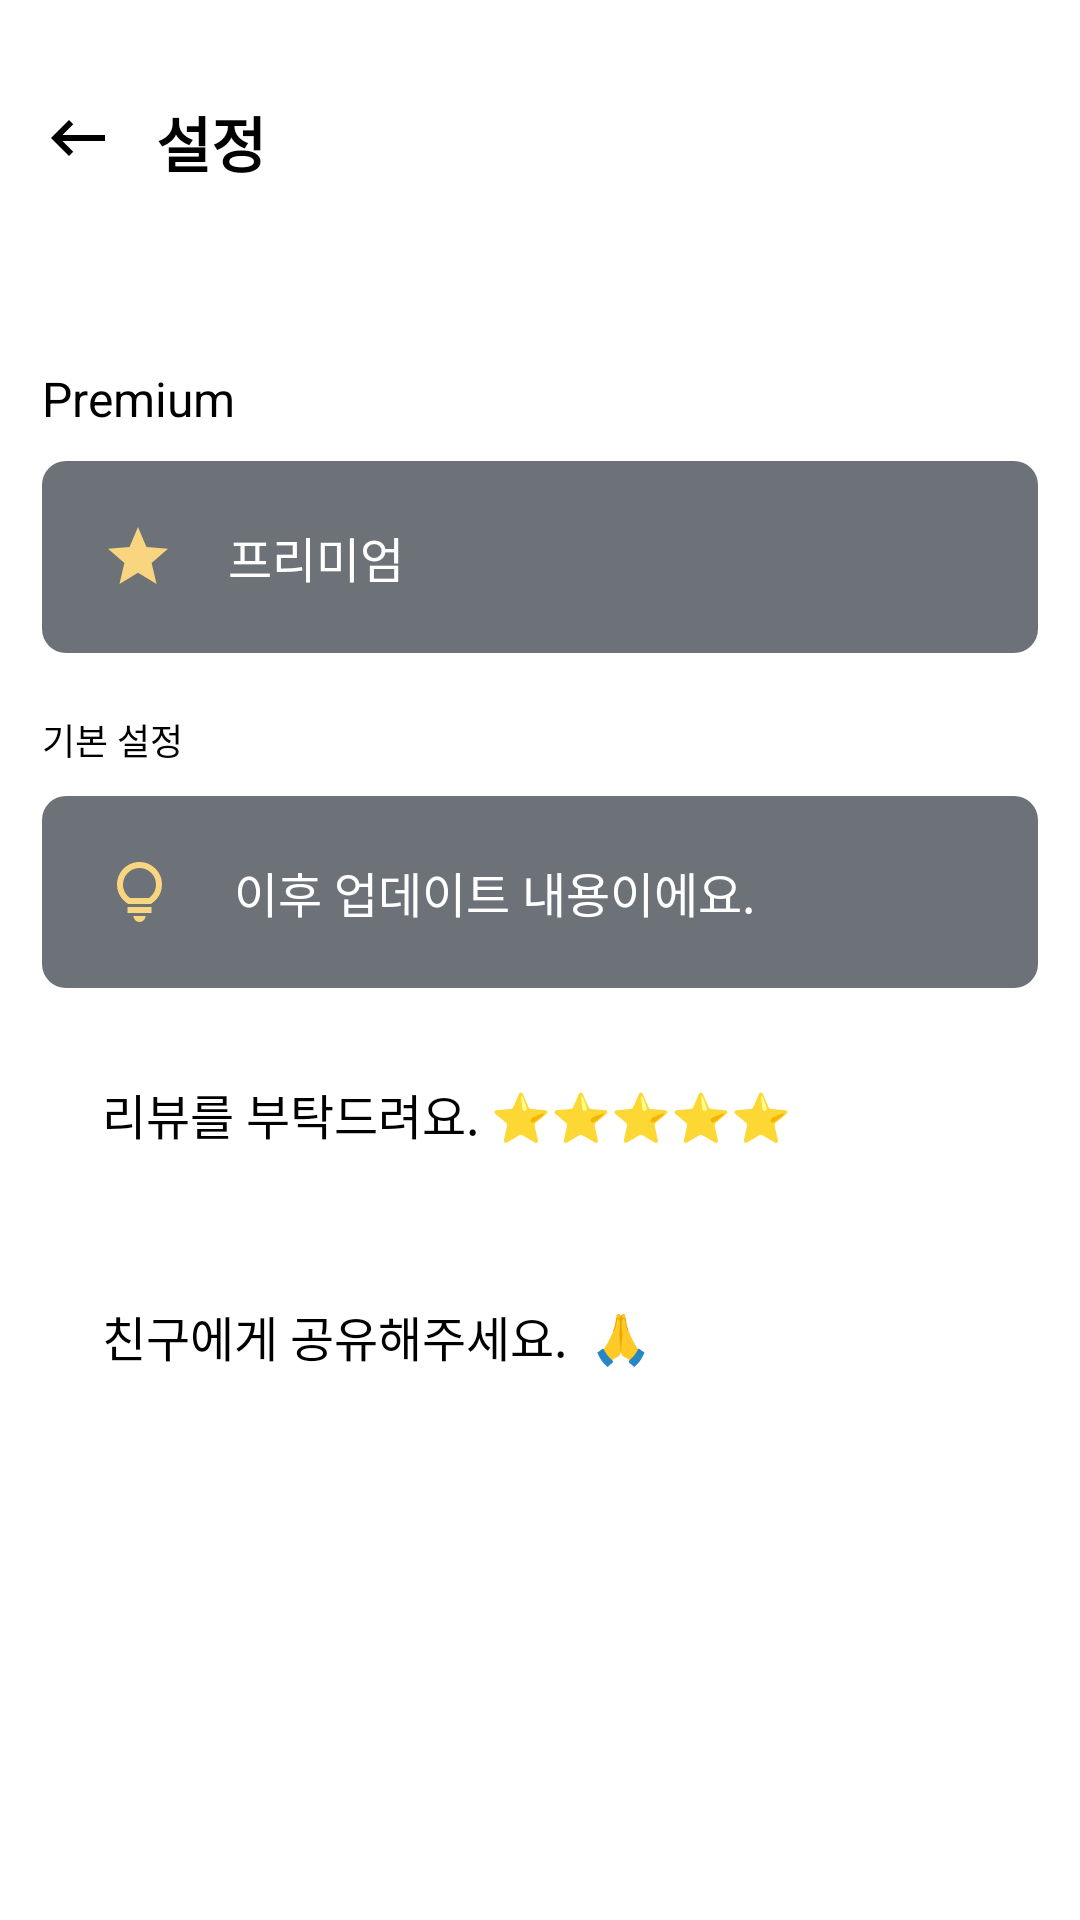

Where to tap for icons on this 1080px×1920px app screen, as (x,y):
setting back: (78,138)
